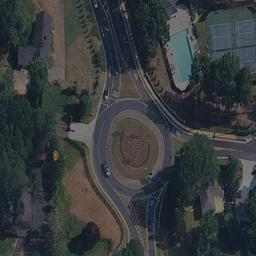Car: (101, 161, 112, 179), (101, 86, 111, 104), (90, 1, 100, 8)
Chevron: (100, 1, 130, 70), (116, 191, 147, 243)
Double Solid Yellow Line: (213, 146, 241, 153)
Left Turn Arrow: (103, 25, 110, 32), (114, 69, 118, 75)
Stright Arrow: (174, 128, 183, 139), (132, 70, 139, 83), (149, 199, 156, 208)
